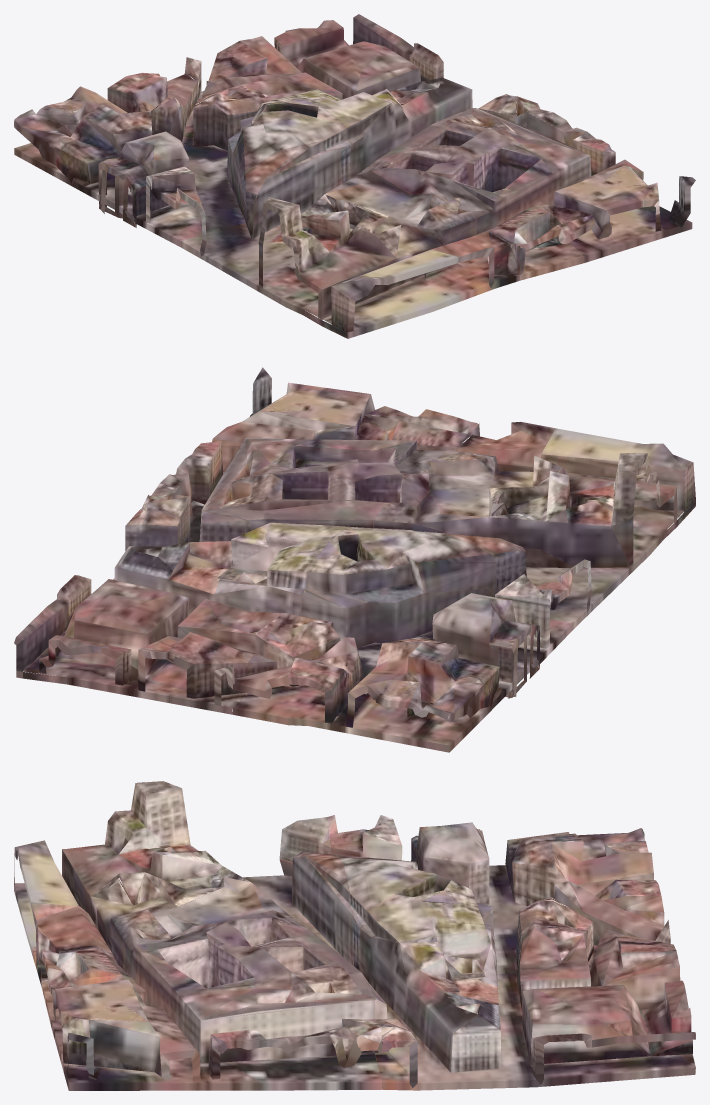
3 views of the same model, one above another, from view 1: azimuth 30°, elevation 25°; view 2: azimuth 150°, elevation 25°; view 3: azimuth 270°, elevation 25° (orthographic). The views are drawn at different scales.
Parts seen in each view (by area): view 1: Mesh_0; view 2: Mesh_0; view 3: Mesh_0.
Part boxes in pixels (<box>): Mesh_0: <box>14,14,695,338</box>; Mesh_0: <box>14,367,695,752</box>; Mesh_0: <box>14,781,695,1090</box>.
Size of the model in its own units: 269 by 63.39 by 330.
2 materials, 2 textured.
